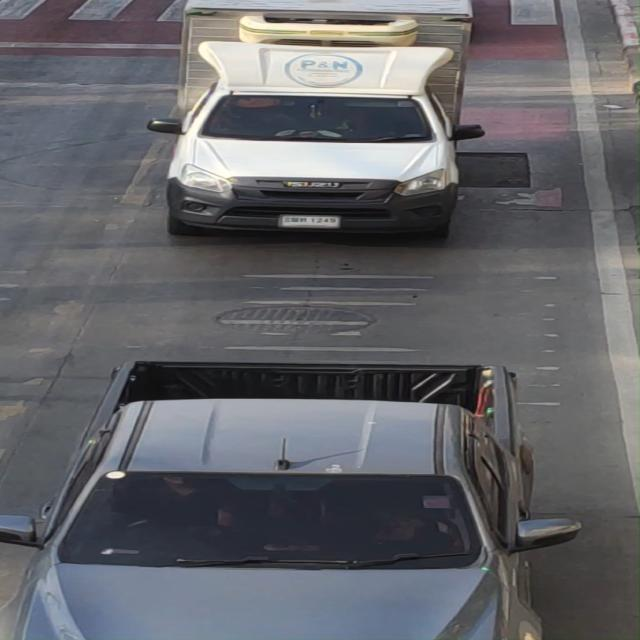car: (0, 348, 609, 640), (136, 0, 518, 248)
